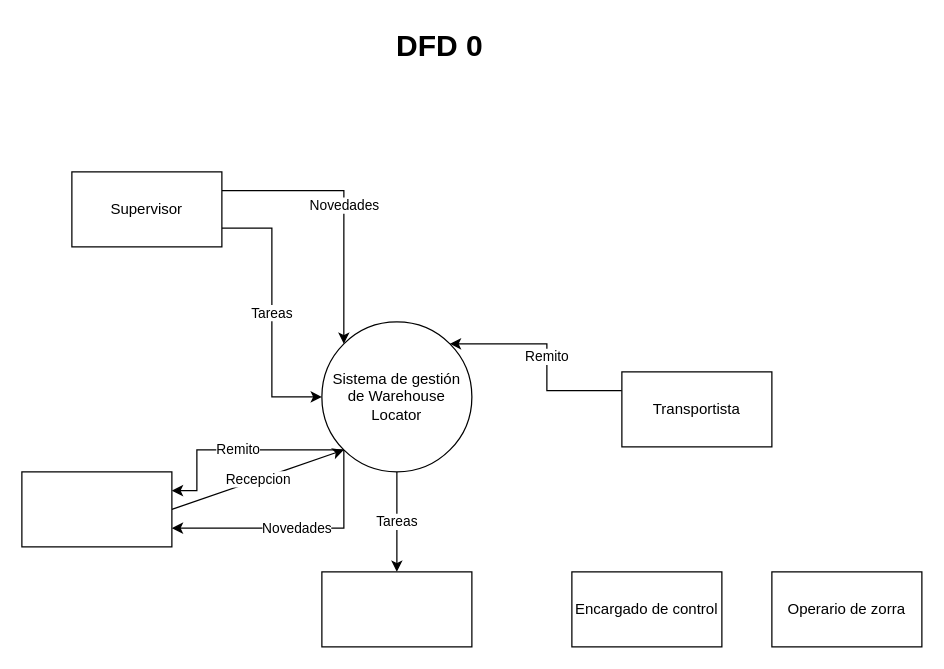
Image size: 944x669. Some labels were removed from this diagram. Each missing label, with the centre of its shape:
Administrativo: the point at 96,509
Clarkistas: the point at 396,609
